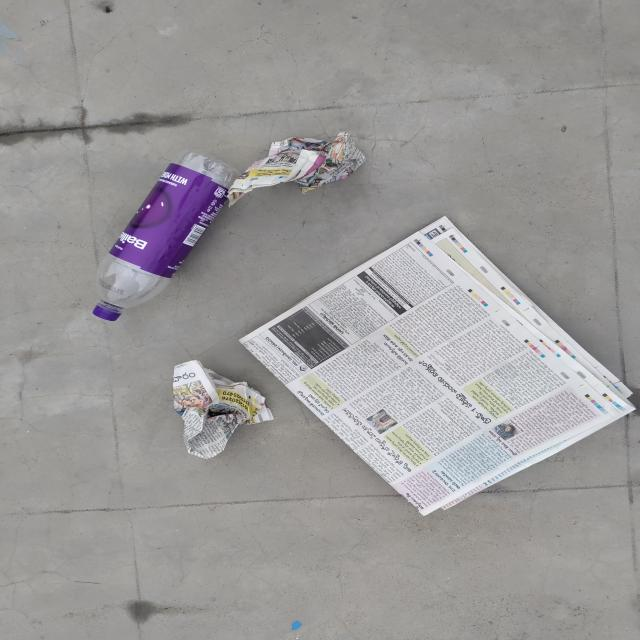paper: (238, 217, 634, 512), (227, 132, 366, 208), (172, 359, 274, 459)
plastic: (52, 148, 241, 321)
